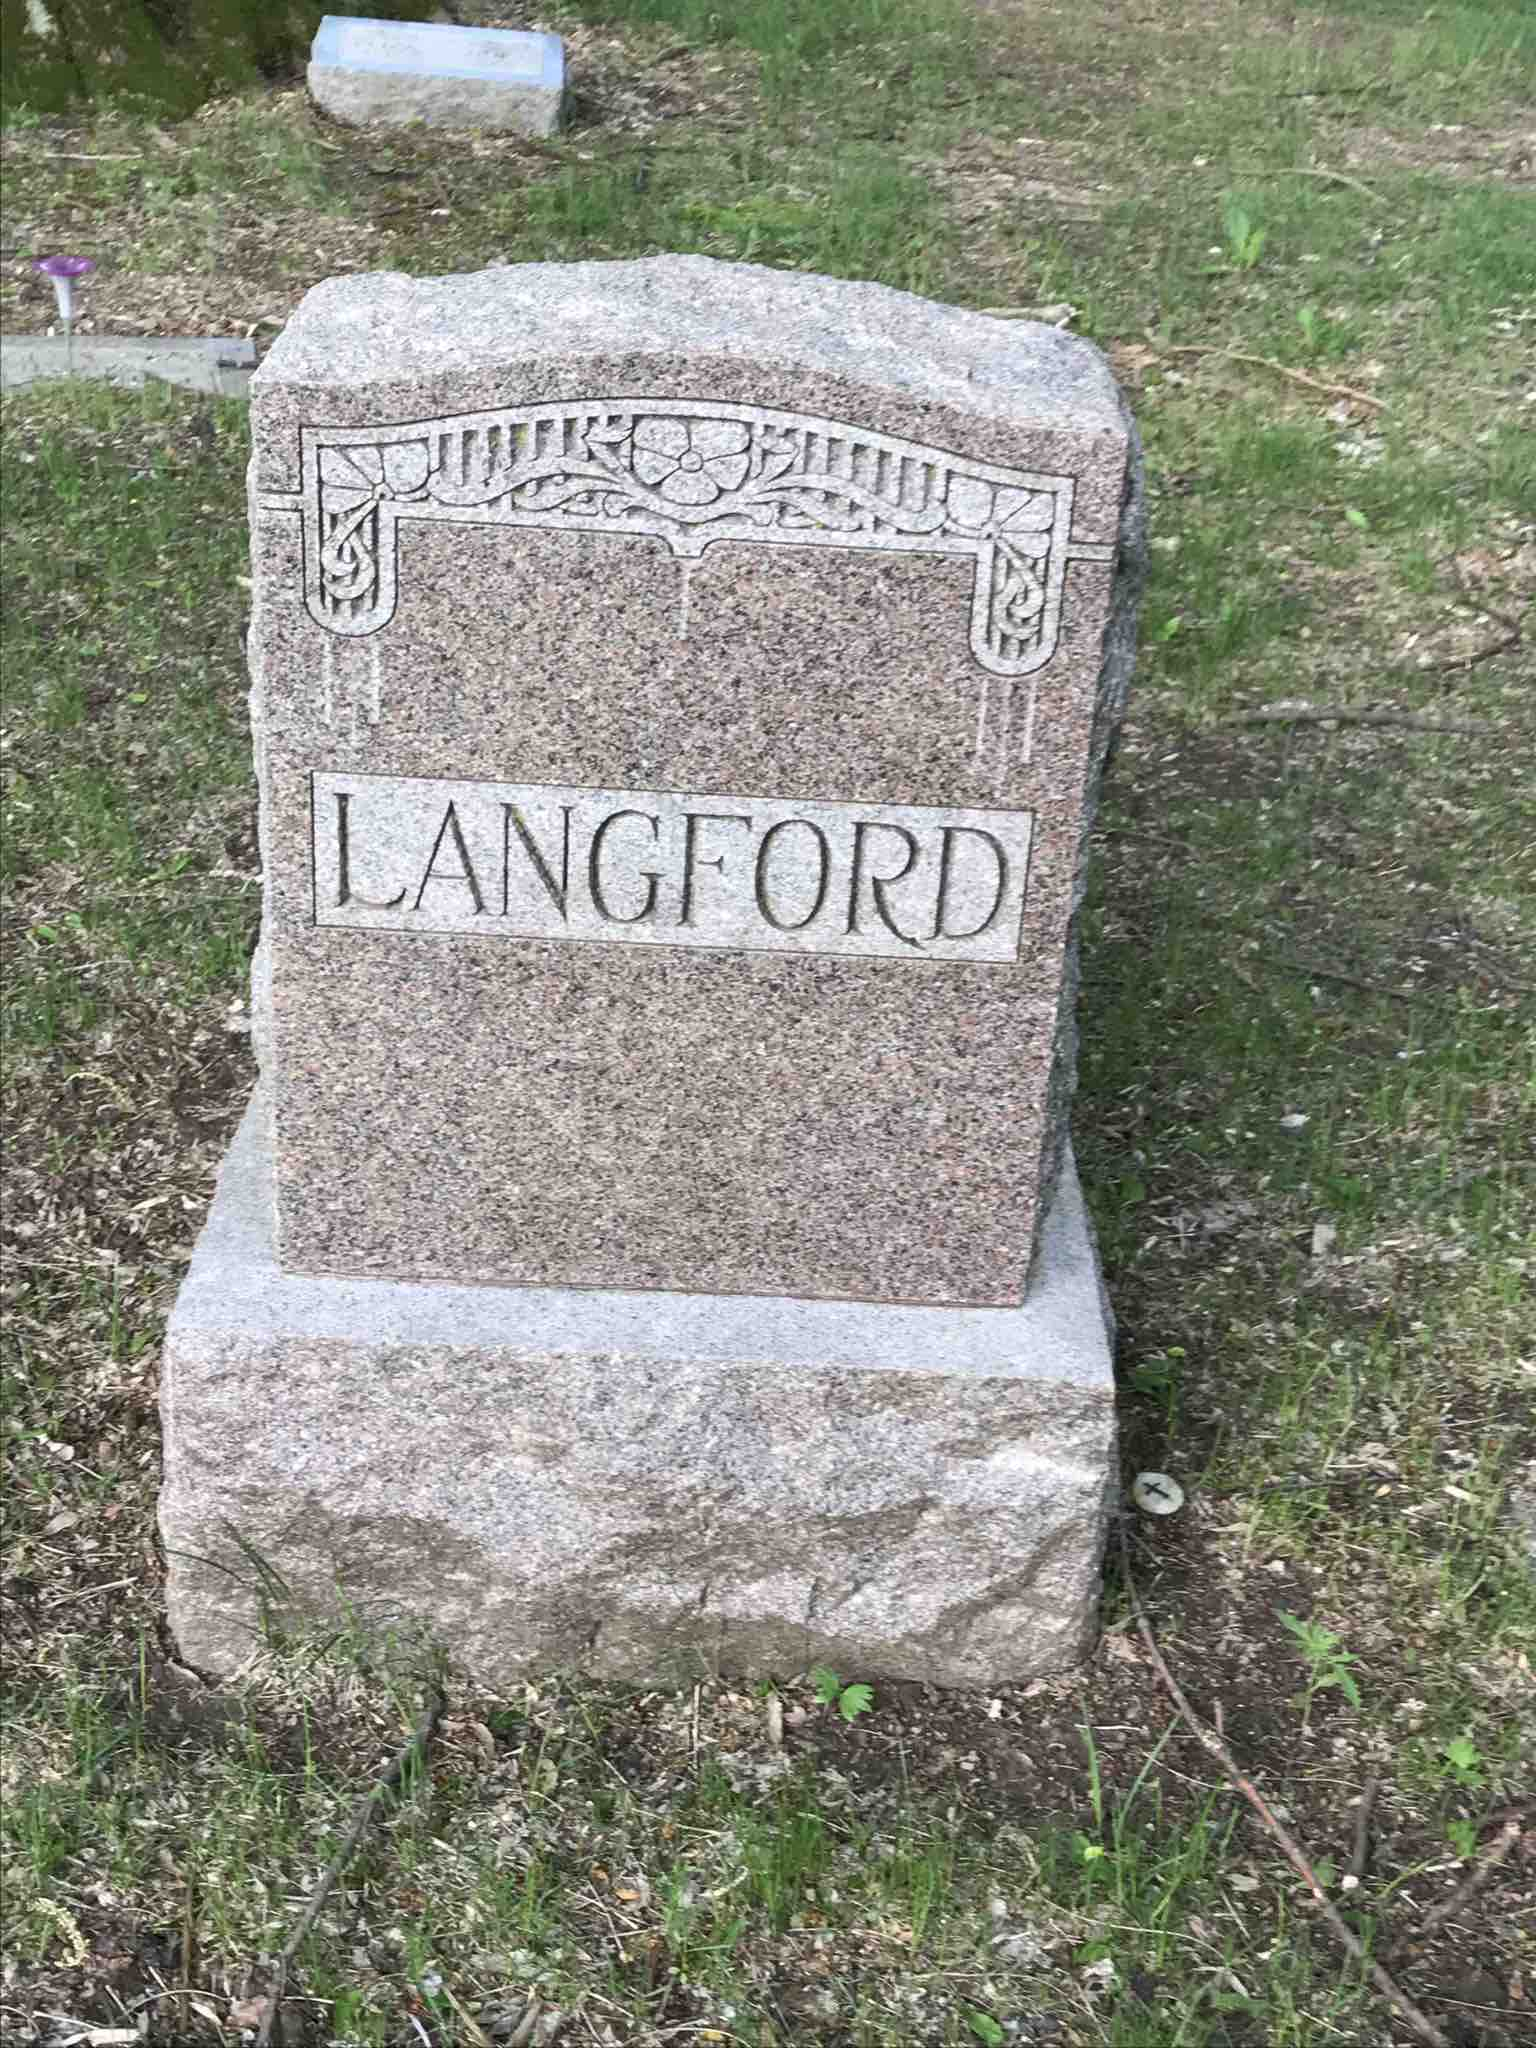upright: (152, 179, 1157, 1735)
